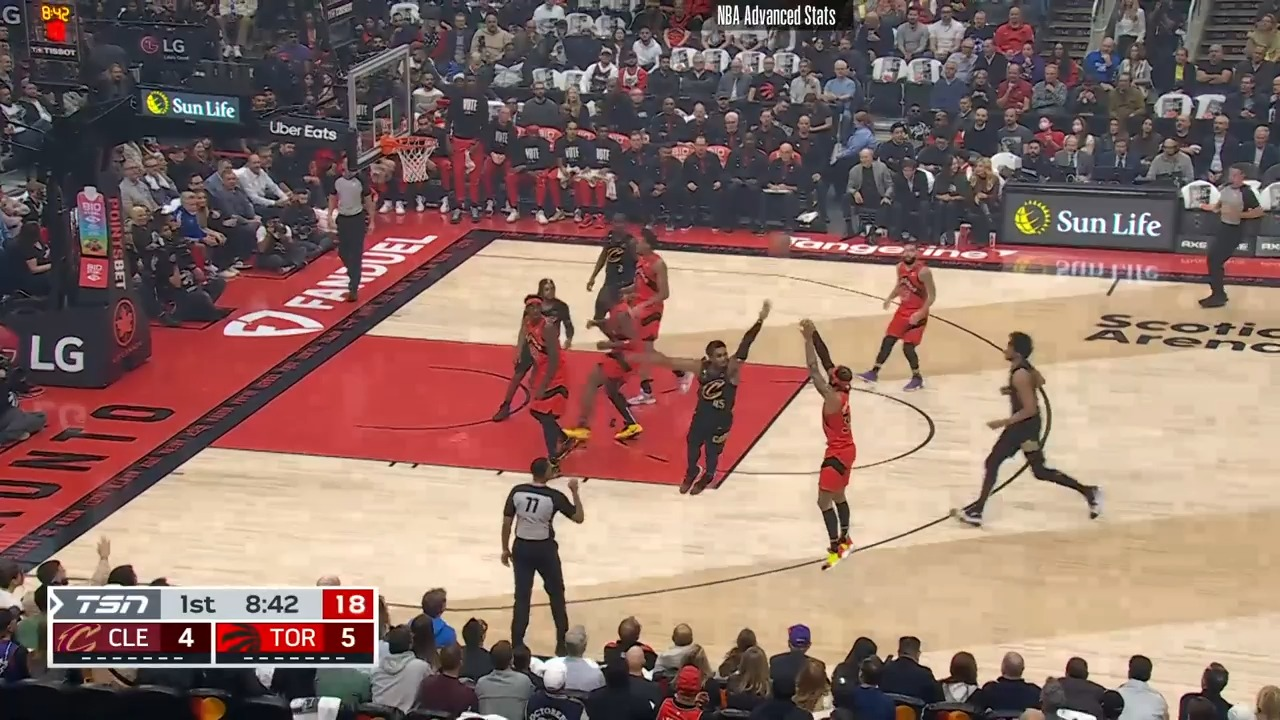net: (374, 130, 435, 186)
player: (954, 328, 1102, 530), (630, 299, 773, 501), (800, 319, 866, 571), (622, 229, 697, 411), (569, 285, 649, 453), (491, 278, 579, 429), (859, 234, 941, 395), (515, 294, 580, 480), (583, 207, 639, 326)
referee: (501, 454, 592, 654), (1189, 163, 1254, 313), (322, 159, 371, 303)
